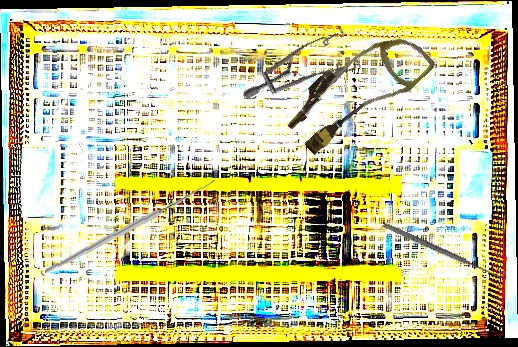Cannula: (278, 13, 437, 168)
Hook Surgical: (45, 164, 215, 280), (381, 216, 508, 283)
Speculum: (241, 4, 373, 142)
